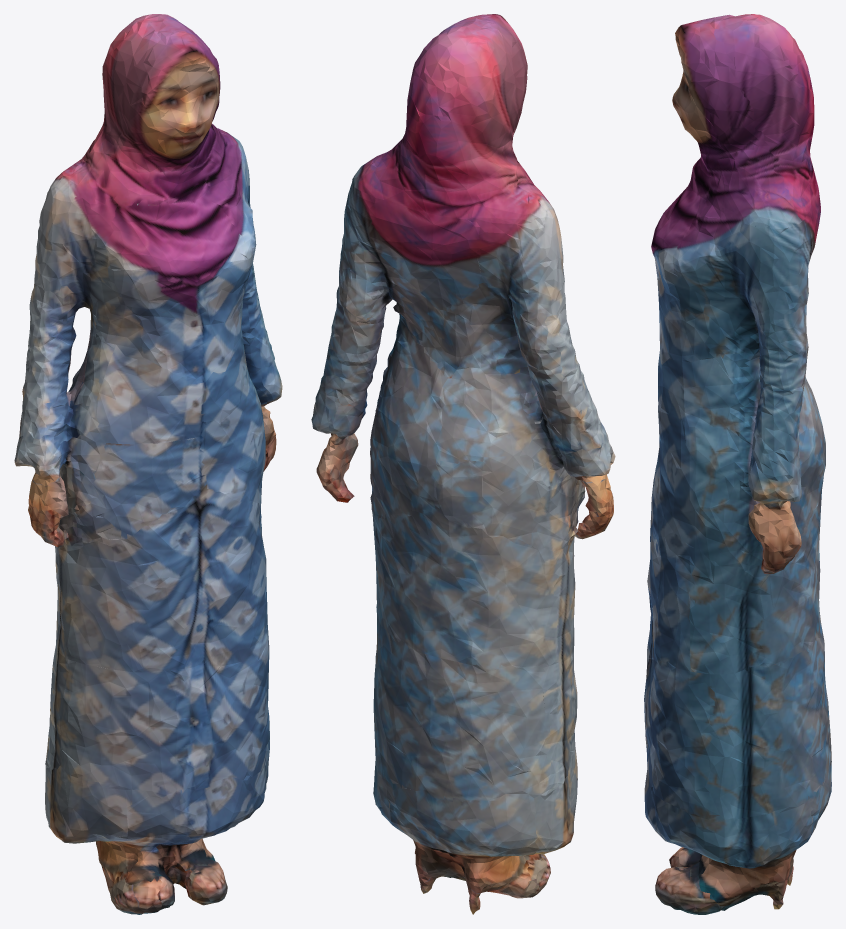
File: p-woman-headscarf-dress.glb
3 views of the same model, side by side, from view 1: azimuth 30°, elevation 25°; view 2: azimuth 150°, elevation 25°; view 3: azimuth 270°, elevation 25° (orthographic). The views are drawn at different scales.
Parts seen in each view (by area): view 1: body; view 2: body; view 3: body.
Boxes of the visible parts, x1,y1,x2,y2 form: body: (14,14,282,914); body: (311,14,615,914); body: (644,14,831,914).
Bounding box in the file's own units: 0.5494 × 1.65 × 0.3167.
Materials: 1 (1 with a texture image).
